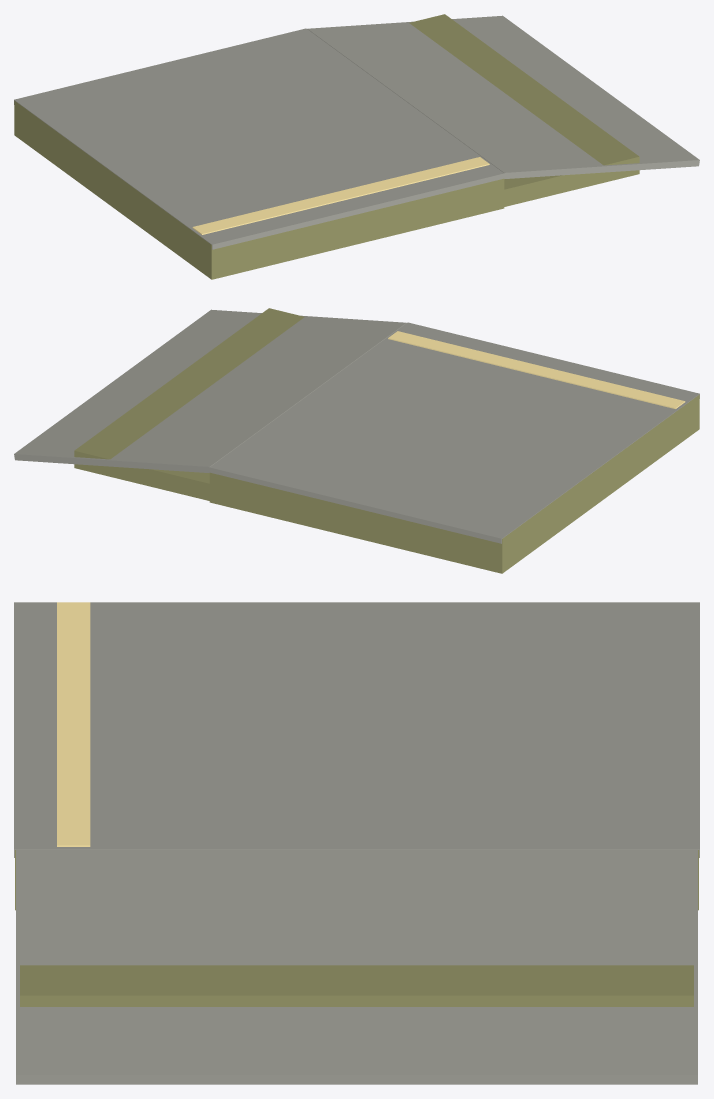
File: SM_KitAnden_F7_v3_LOD1.fbx
3 renders of one model, top to bottom at view 1: azimuth 30°, elevation 25°; view 2: azimuth 150°, elevation 25°; view 3: azimuth 270°, elevation 25°, orthographic. The views are drawn at different scales.
Parts seen in each view (by area): view 1: SM_kit_anden_v3_LOD1; view 2: SM_kit_anden_v3_LOD1; view 3: SM_kit_anden_v3_LOD1.
Part boxes in pixels (box(x1,y1,x2,y2)): SM_kit_anden_v3_LOD1: box(14, 14, 699, 279); SM_kit_anden_v3_LOD1: box(14, 308, 699, 573); SM_kit_anden_v3_LOD1: box(14, 602, 699, 1084).
Size of the model in its own units: 9.99 by 0.8192 by 7.02.
